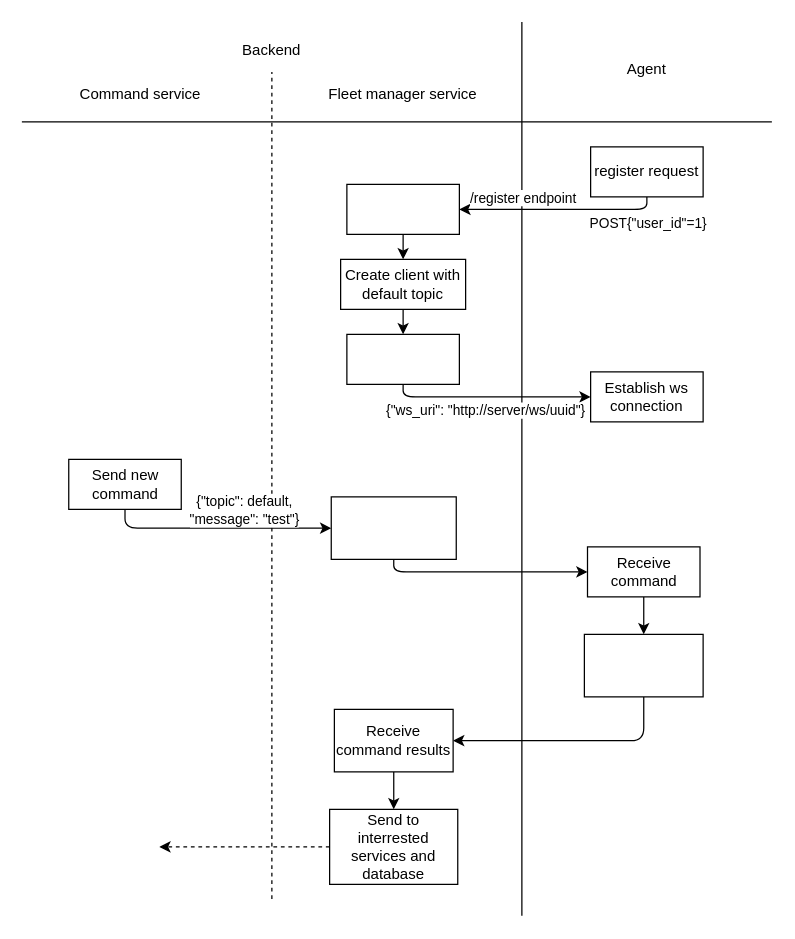
Some shapes in this 795 by 939 pixel diagram are drawn without their labels. Each missing label, with the box of its shape:
Create and establish ws: (346, 333, 459, 384)
Execute command (if valid): (583, 633, 703, 697)
Register new agent: (346, 183, 459, 234)
Send by ws to every subscibed agents: (330, 496, 456, 559)
